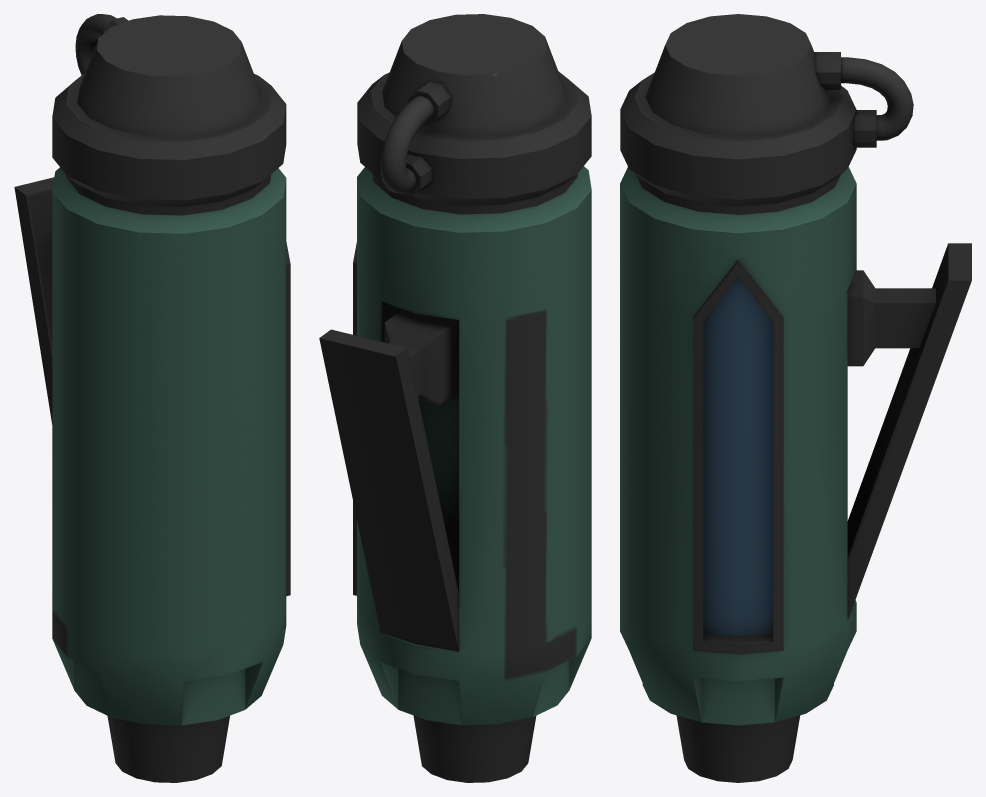
File: MedicaeStimm.fbx
3 views of the same model, side by side, from view 1: azimuth 30°, elevation 25°; view 2: azimuth 150°, elevation 25°; view 3: azimuth 270°, elevation 25° (orthographic).
Parts seen in each view (by area): view 1: stim; view 2: stim; view 3: stim.
Part boxes in pixels (<box>): stim: <box>14,14,290,782</box>; stim: <box>319,14,591,782</box>; stim: <box>620,14,971,782</box>.
Bounding box in the file's own units: 245 × 801 × 357.
